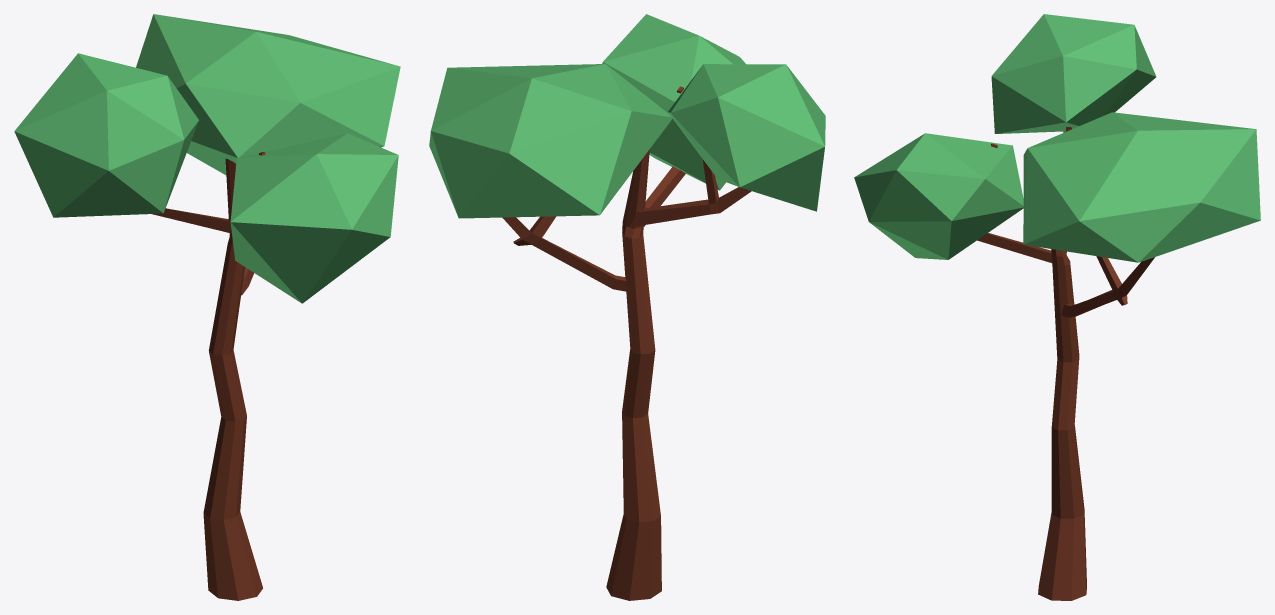
Rendered from TreeMedium.fbx.
3 views of the same model, side by side, from view 1: azimuth 30°, elevation 25°; view 2: azimuth 150°, elevation 25°; view 3: azimuth 270°, elevation 25° (orthographic). The views are drawn at different scales.
Parts seen in each view (by area): view 1: TreeMedium; view 2: TreeMedium; view 3: TreeMedium.
Part boxes in pixels (box(x1,y1,x2,y2)): TreeMedium: box(14, 14, 400, 600); TreeMedium: box(429, 14, 825, 600); TreeMedium: box(854, 14, 1260, 600).
Bounding box in the file's own units: 192 × 262 × 188.
